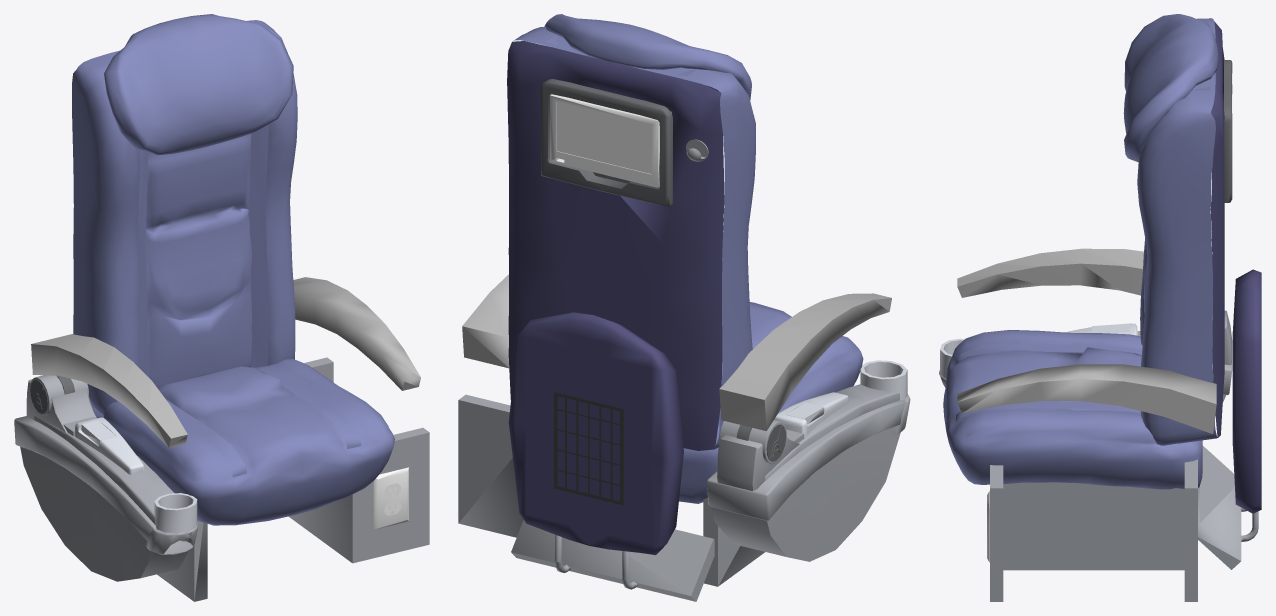
Rendered from asiento-tag8.gltf.
3 views of the same model, side by side, from view 1: azimuth 30°, elevation 25°; view 2: azimuth 150°, elevation 25°; view 3: azimuth 270°, elevation 25° (orthographic). The views are drawn at different scales.
Parts seen in each view (by area): view 1: Recargadera_fron, Asiento, Descanzanuca, Descanza_brazos, Plastico_1, Plastico_2, Costuras, Plastico_4, Costura, Plastico_, Plastico_5, Socket_tapa (+3 smaller); view 2: Recargadera_tras, Descanza_pies, Descanza_brazos, Plastico_1, Plastico_2, Recargadera_fron, Eje_de_Descanzapies, Plastico_3, Descanzanuca, Porta_pantalla, Asiento, Pantalla_Luz (+7 smaller); view 3: Asiento, Recargadera_fron, Descanza_brazos, Plastico_, Descanzanuca, Descanza_pies, Recargadera_tras, Eje_de_Descanzapies, Costura, Plastico_3, Plastico_4, Porta_pantalla (+2 smaller).
Boxes of the visible parts, box(x1,y1,x2,y2) form: Recargadera_fron: box(72, 20, 297, 415); Asiento: box(91, 359, 394, 525); Descanzanuca: box(104, 14, 293, 154); Descanza_brazos: box(31, 277, 420, 447); Plastico_1: box(14, 379, 198, 554); Plastico_2: box(20, 446, 188, 581); Costuras: box(108, 53, 268, 375); Plastico_4: box(352, 427, 429, 563); Costura: box(166, 366, 361, 476); Plastico_: box(288, 494, 352, 562); Plastico_5: box(157, 520, 207, 601); Socket_tapa: box(373, 467, 408, 529); Recargadera_tras: box(507, 41, 724, 450); Descanza_pies: box(508, 312, 683, 555); Descanza_brazos: box(462, 274, 891, 430); Plastico_1: box(707, 384, 910, 520); Plastico_2: box(710, 427, 900, 561); Recargadera_fron: box(514, 27, 755, 448); Eje_de_Descanzapies: box(511, 520, 714, 601); Plastico_3: box(458, 394, 523, 537); Descanzanuca: box(544, 14, 751, 100); Porta_pantalla: box(541, 79, 672, 206); Asiento: box(679, 302, 863, 503); Pantalla_Luz: box(557, 101, 651, 173); Asiento: box(943, 330, 1202, 489); Recargadera_fron: box(1137, 18, 1217, 445); Descanza_brazos: box(957, 248, 1216, 433); Plastico_: box(1003, 482, 1184, 570); Descanzanuca: box(1123, 14, 1218, 162); Descanza_pies: box(1232, 269, 1261, 513); Recargadera_tras: box(1210, 21, 1224, 437); Eje_de_Descanzapies: box(1198, 445, 1241, 569); Costura: box(955, 343, 1142, 424); Plastico_3: box(1184, 459, 1197, 601); Plastico_4: box(990, 465, 1003, 601); Porta_pantalla: box(1224, 60, 1232, 202).
Size of the model in its own units: 96 by 150 by 88.99.
